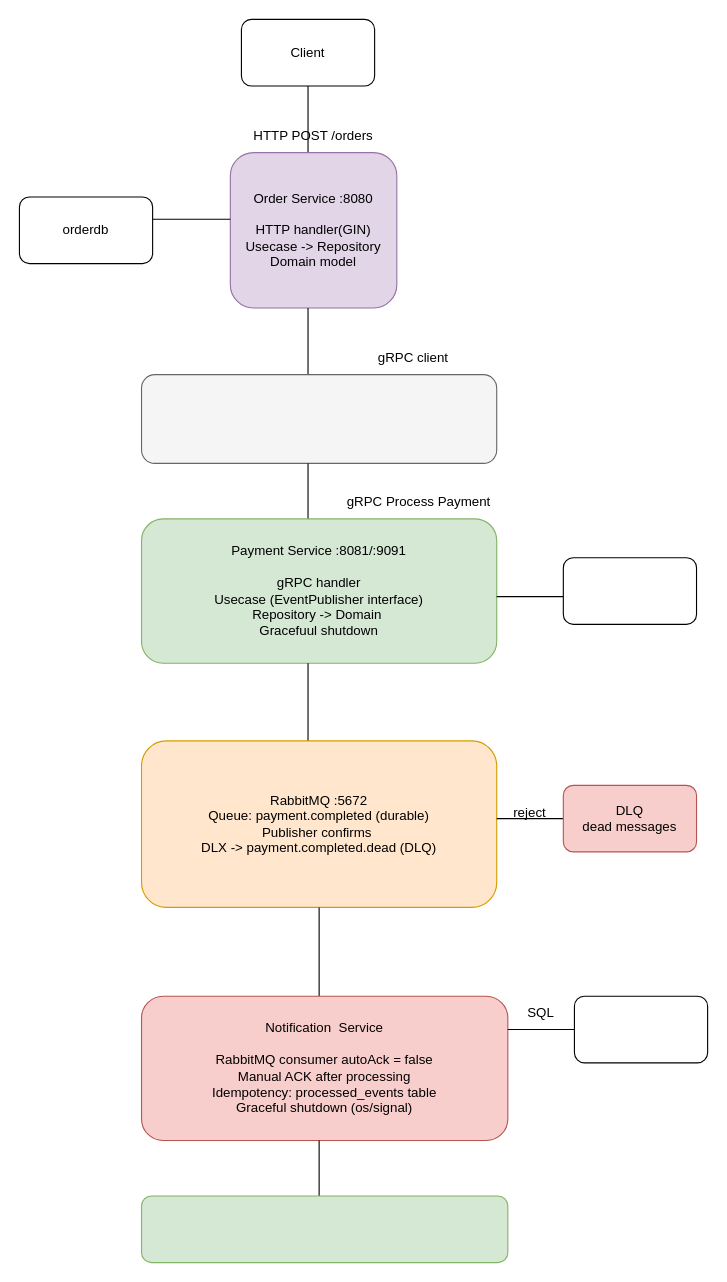
Image size: 727x1282. Some labels were removed from this diagram. Here are the shapes that lost their labels. From the top down, the centre of each, then its label:
At (318,418): "Protobuf contracts PaymentRequest + customer_email".
At (629,590): "paymentdb".
At (640,1029): "notification db".
At (324,1229): "ConsoleLog [Notification] Sent email to user@... Order #uiid".
